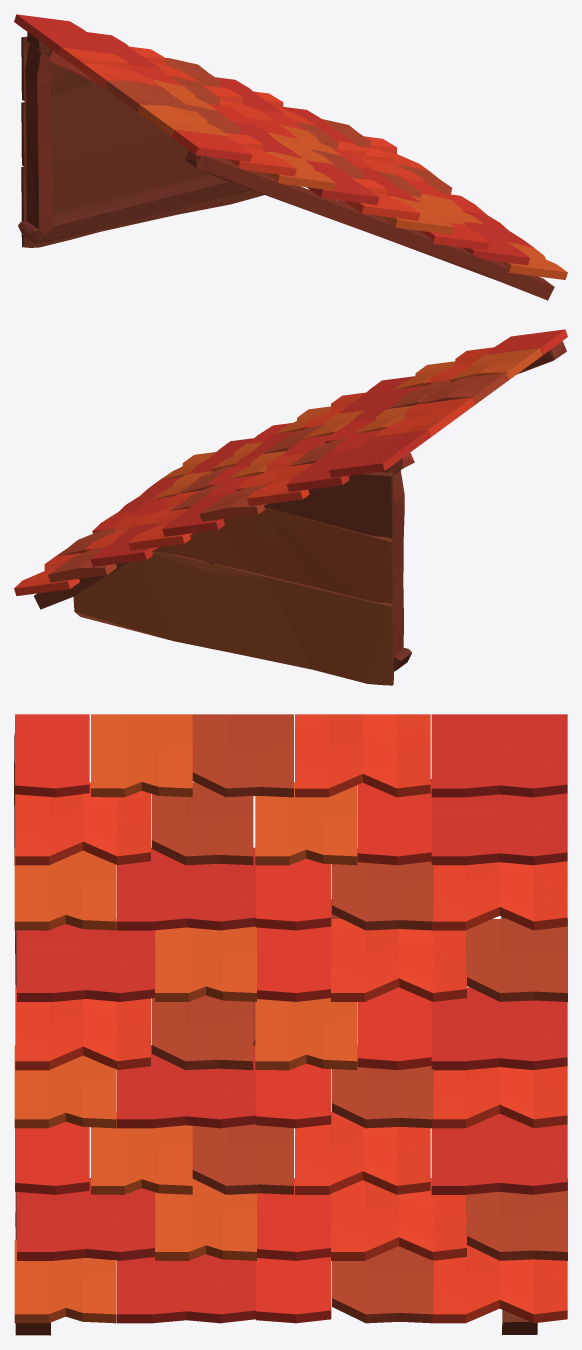
The model's file is Shingles angle_1.fbx.
3 renders of one model, top to bottom at view 1: azimuth 30°, elevation 25°; view 2: azimuth 150°, elevation 25°; view 3: azimuth 270°, elevation 25°, orthographic. The views are drawn at different scales.
Visible parts, largest first — view 1: Shingles angle_1; view 2: Shingles angle_1; view 3: Shingles angle_1.
Boxes of the visible parts, x1,y1,x2,y2 form: Shingles angle_1: (14, 14, 567, 300); Shingles angle_1: (14, 329, 567, 685); Shingles angle_1: (14, 714, 567, 1335).
Bounding box in the file's own units: 3.59 × 2.16 × 3.
